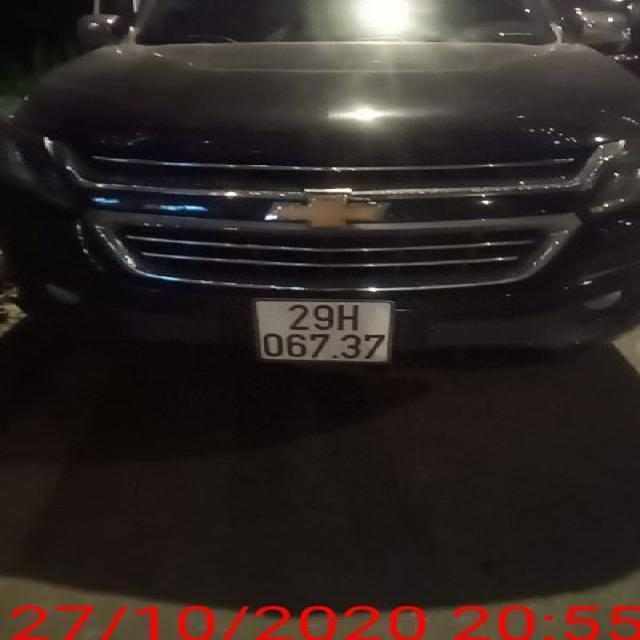bien_so_oto: (247, 292, 398, 370)
